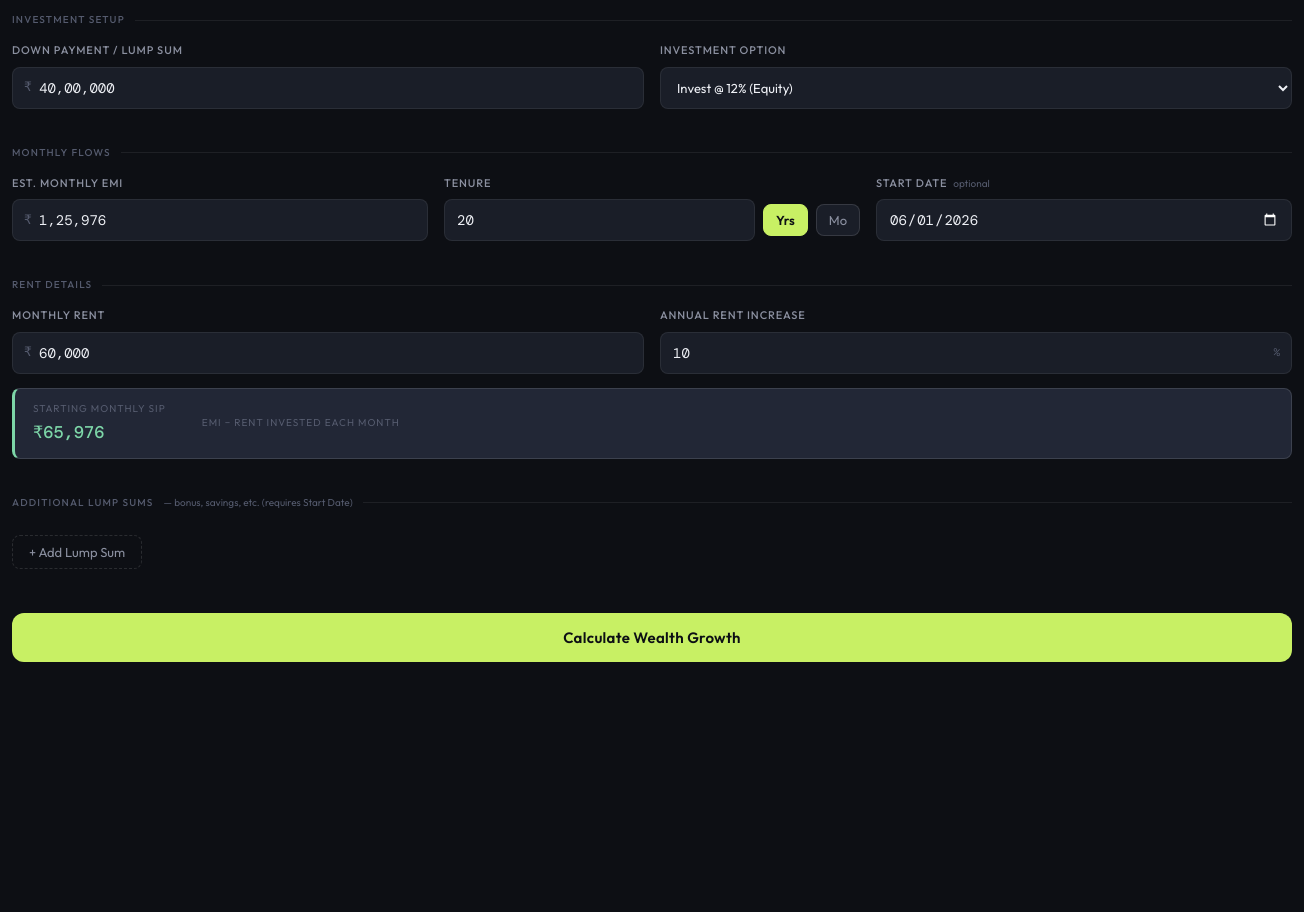
Test case: RentInvestmentPage — validation › shows an error when down payment is cleared
The image size is (1304, 912).
Clear the field showing "40,00,000" below "Down Payment / Lump Sum". click: {"x": 328, "y": 88}
box: top-left (12, 67), bottom-right (644, 109)
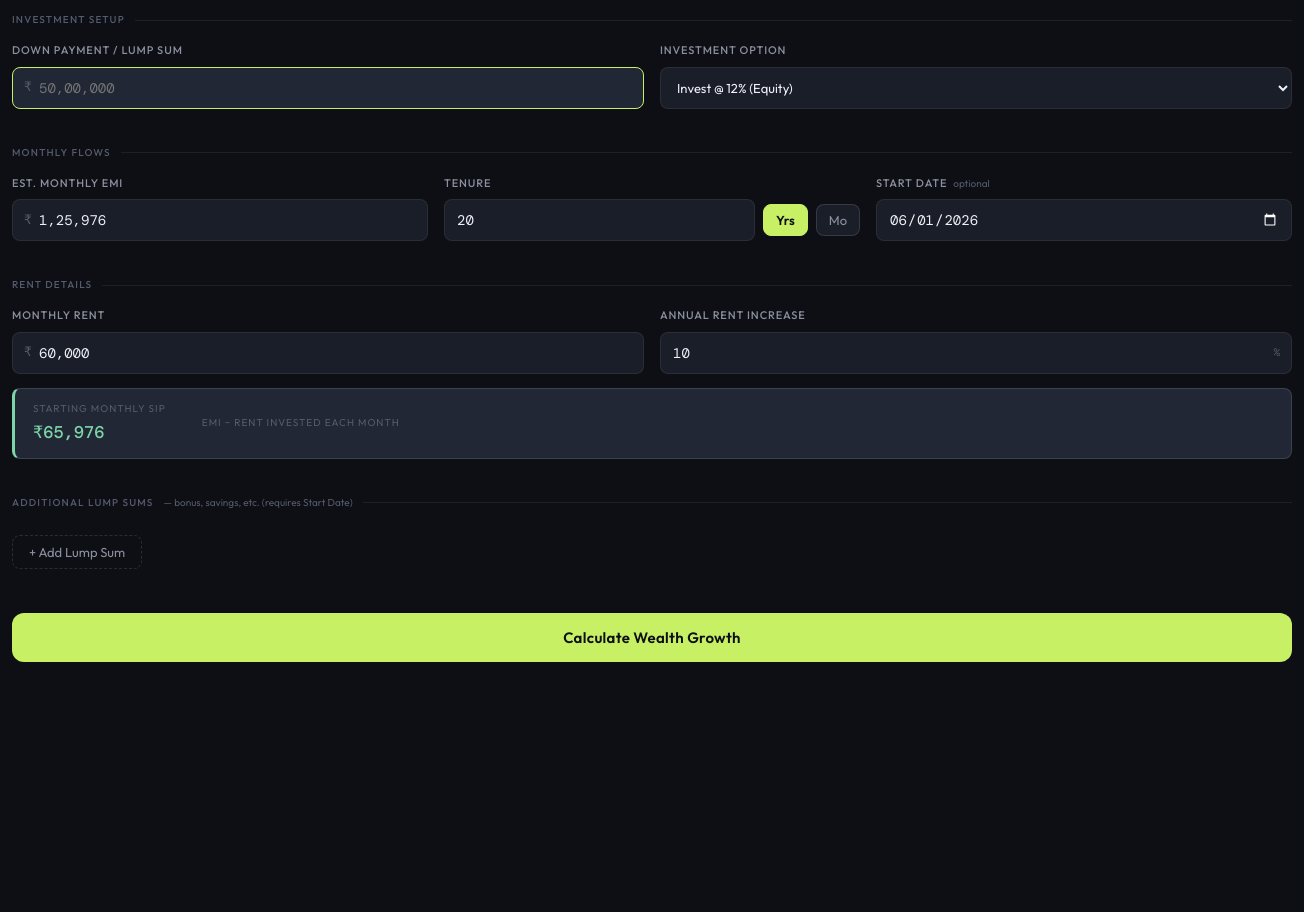
Click the button "Calculate Wealth Growth". click: {"x": 652, "y": 638}
box: top-left (12, 613), bottom-right (1292, 662)
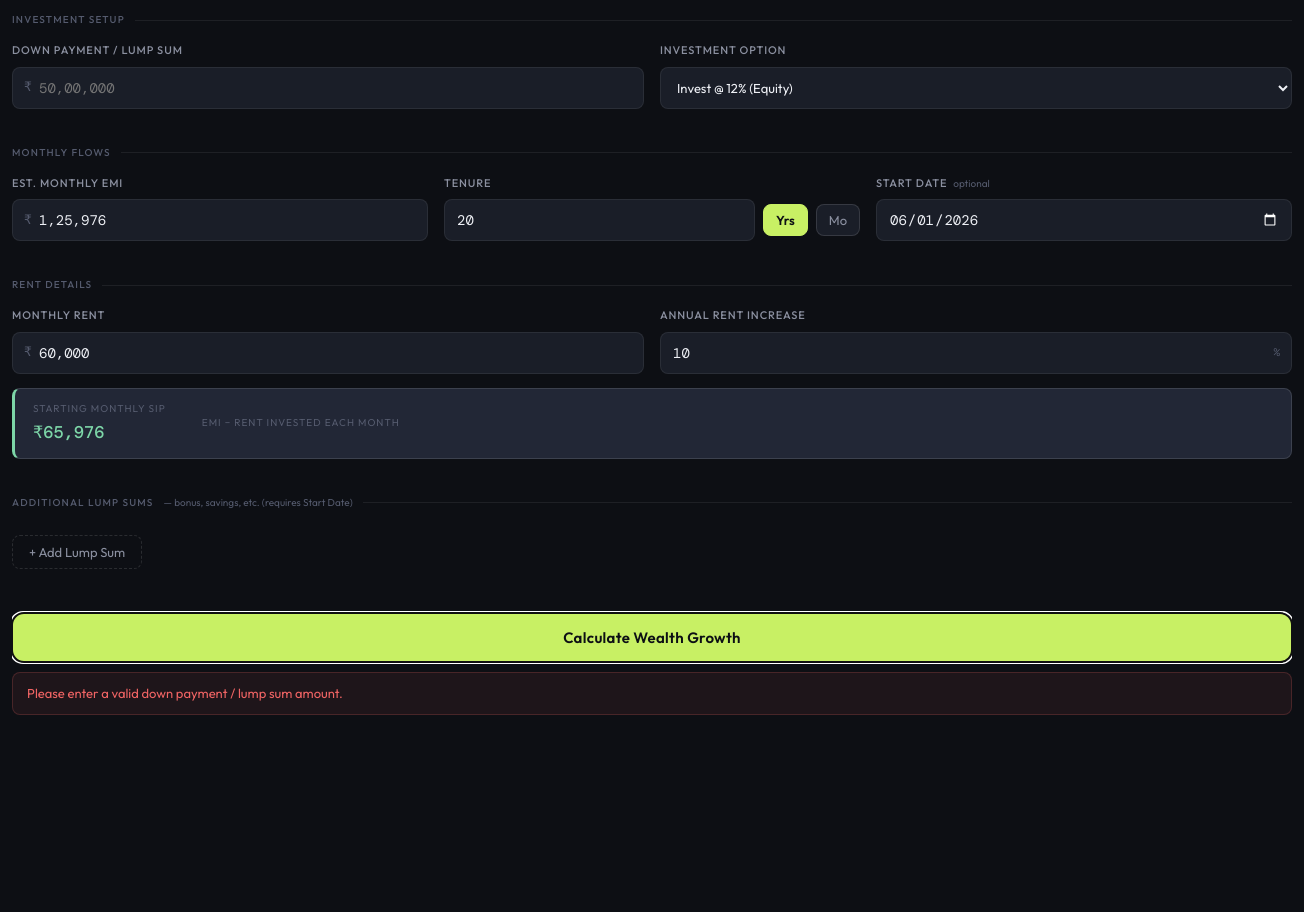
Check: the text "Please enter a valid down payment / lump sum amount." is shown, box top-left (12, 672), bottom-right (1292, 715)
